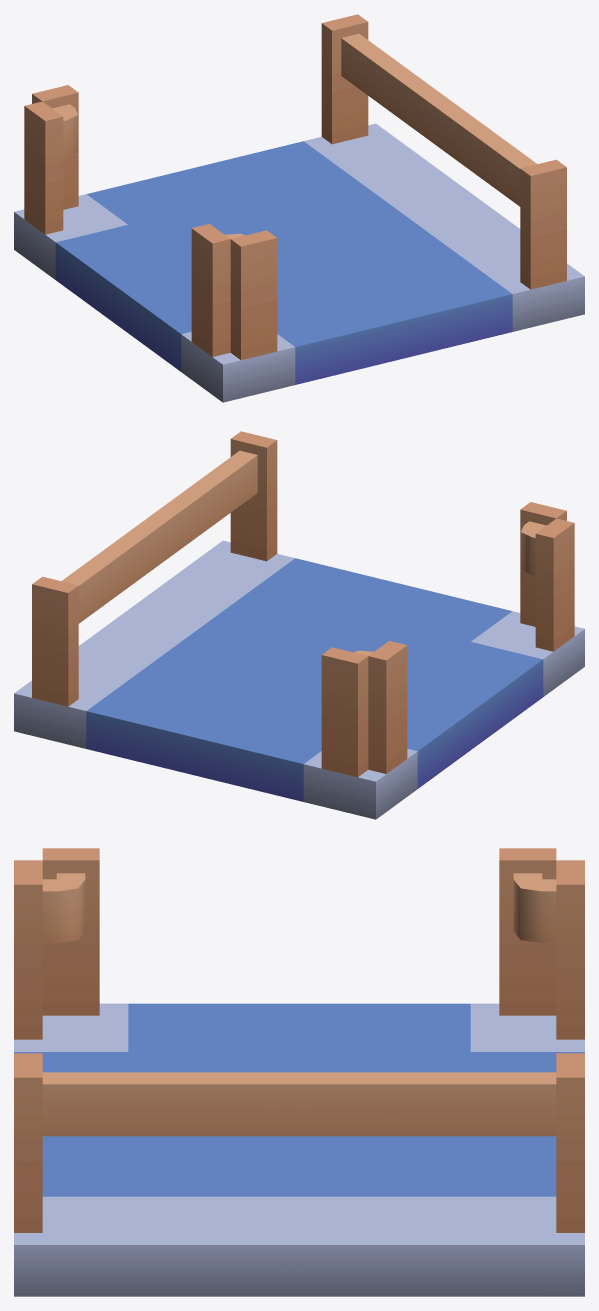
File: queue-split.glb
The picture shows the model from 3 angles, top to bottom: view 1: azimuth 30°, elevation 25°; view 2: azimuth 150°, elevation 25°; view 3: azimuth 270°, elevation 25°; orthographic projection. The views are drawn at different scales.
Parts seen in each view (by area): view 1: queue-split; view 2: queue-split; view 3: queue-split.
Boxes of the visible parts, x1=… form: queue-split: x1=14, y1=14, x2=584, y2=402; queue-split: x1=14, y1=431, x2=584, y2=819; queue-split: x1=14, y1=848, x2=584, y2=1296.
Bounding box in the file's own units: 1 × 0.3999 × 1.
1 material, 1 textured.
